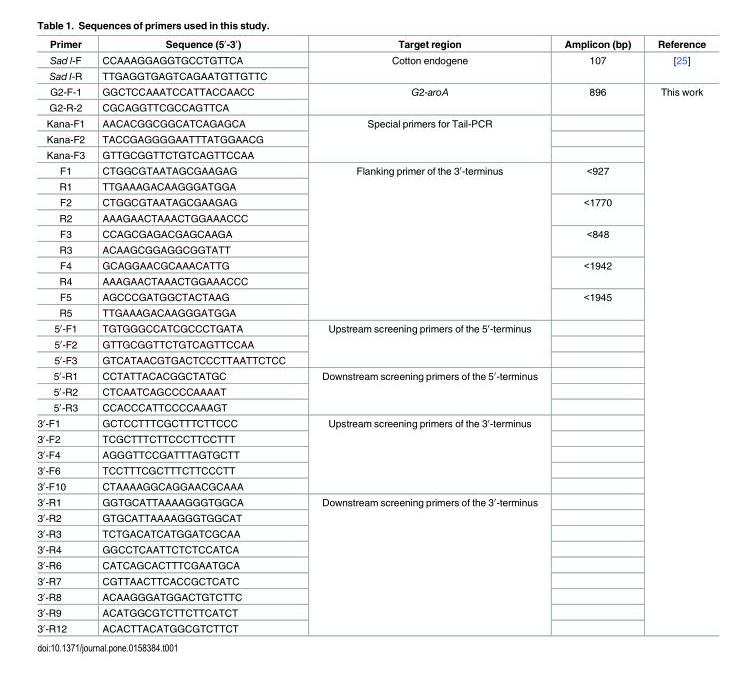table: (36, 37, 705, 634)
table column: (303, 37, 550, 634), (92, 37, 303, 634), (550, 37, 643, 634), (643, 37, 705, 634), (36, 37, 92, 634)
table column header: (36, 37, 705, 51)
table row: (36, 51, 705, 67), (36, 67, 705, 83), (36, 83, 705, 99), (36, 114, 705, 130), (36, 130, 705, 146), (36, 146, 705, 162), (36, 162, 705, 178), (36, 193, 705, 209), (36, 209, 705, 225), (36, 225, 705, 241), (36, 256, 705, 272), (36, 272, 705, 288), (36, 288, 705, 304), (36, 304, 705, 320), (36, 320, 705, 336), (36, 336, 705, 352), (36, 367, 705, 383), (36, 383, 705, 399), (36, 399, 705, 415), (36, 415, 705, 431), (36, 446, 705, 462), (36, 462, 705, 478), (36, 478, 705, 494), (36, 509, 705, 525), (36, 525, 705, 541), (36, 541, 705, 557), (36, 557, 705, 573), (36, 588, 705, 604), (36, 604, 705, 620), (36, 99, 705, 114), (36, 178, 705, 193), (36, 241, 705, 256), (36, 352, 705, 367), (36, 431, 705, 446), (36, 494, 705, 509), (36, 573, 705, 588), (36, 37, 705, 51), (36, 620, 705, 634)
table spanning cell: (303, 162, 550, 320), (303, 494, 550, 634), (643, 83, 705, 634), (303, 415, 550, 494), (303, 114, 550, 162), (303, 367, 550, 415), (303, 320, 550, 367), (303, 51, 550, 83), (303, 83, 550, 114), (550, 51, 643, 83), (550, 193, 643, 225), (550, 256, 643, 288), (550, 288, 643, 320), (550, 83, 643, 114), (550, 162, 643, 193), (550, 225, 643, 256), (643, 51, 705, 83)
